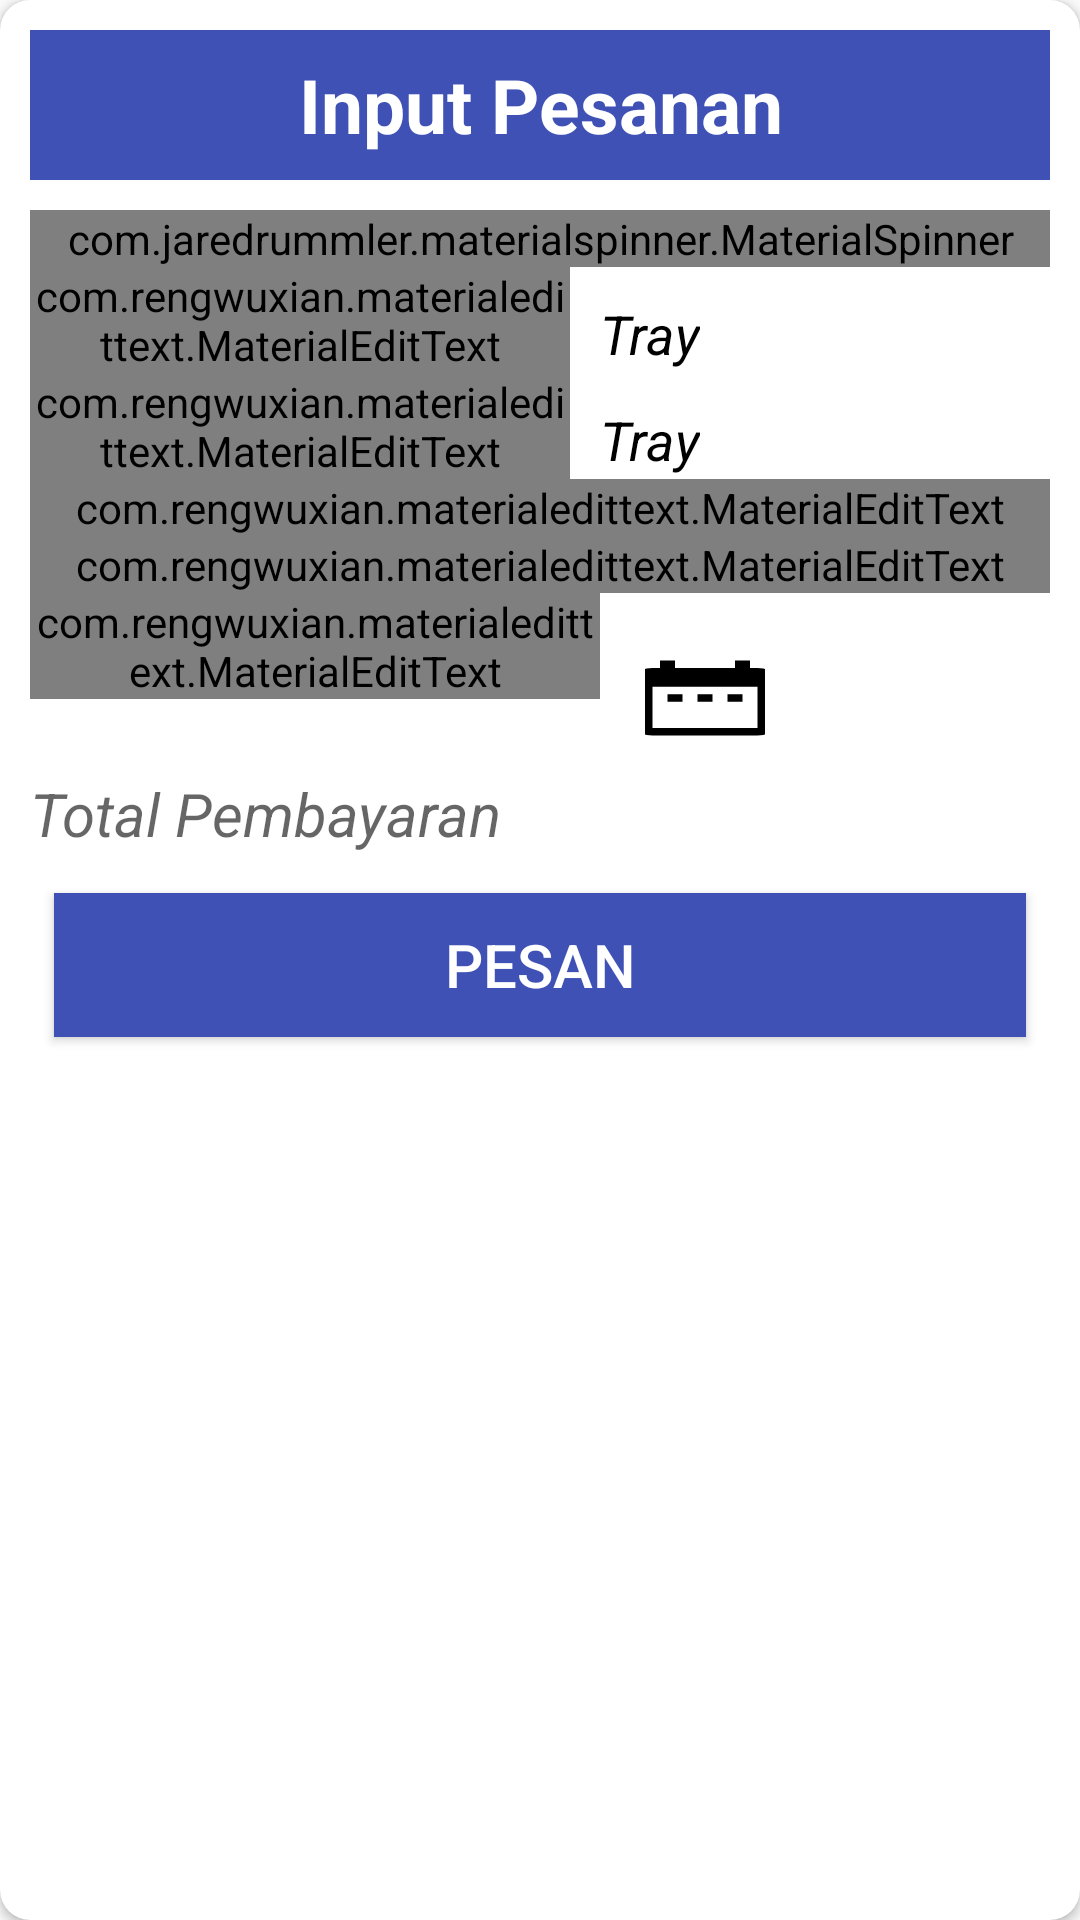

Icons on this 1080px x 1920px Android screen, each with its box as (left=x1, top=y1, right=x2, bottom=y2):
date range: (left=645, top=660, right=765, bottom=736)
